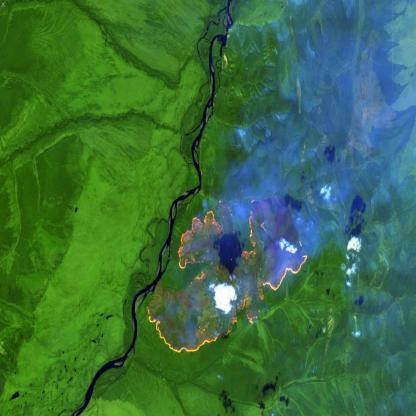fire: (145, 195, 309, 356)
